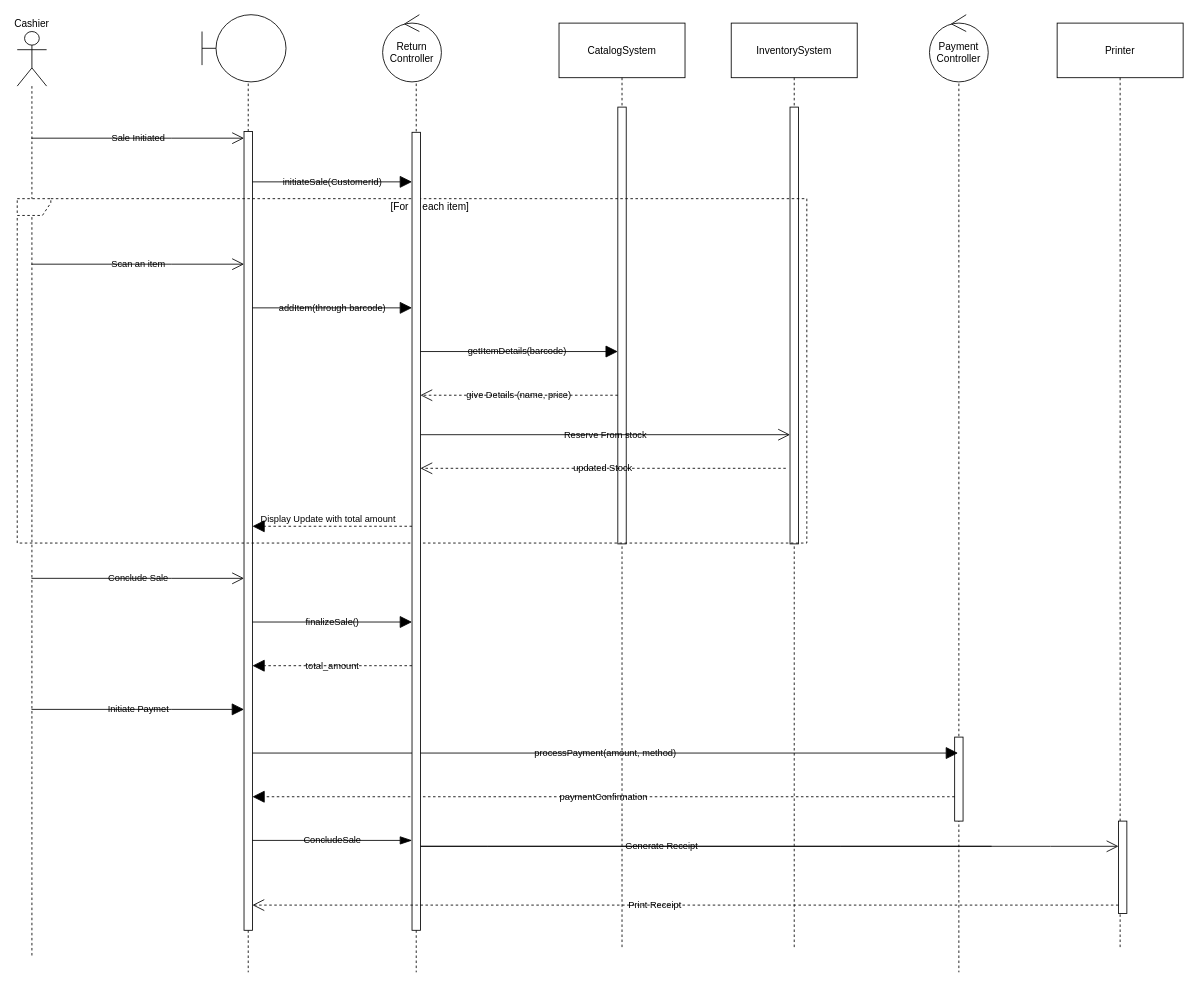
The diagram is 1198 pixels wide and 987 high, and some of its shapes have lost their labels. The shapes that lost their labels are listed below. From the top down, each one's centre as x and y in pixels, then its label:
At point (243, 48): "Interface".
At point (411, 370): "loop".
